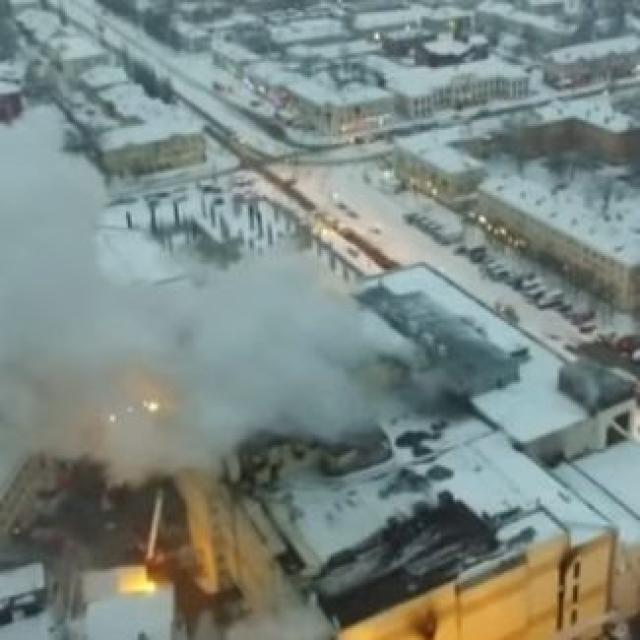Smoke: (0, 156, 454, 444)
